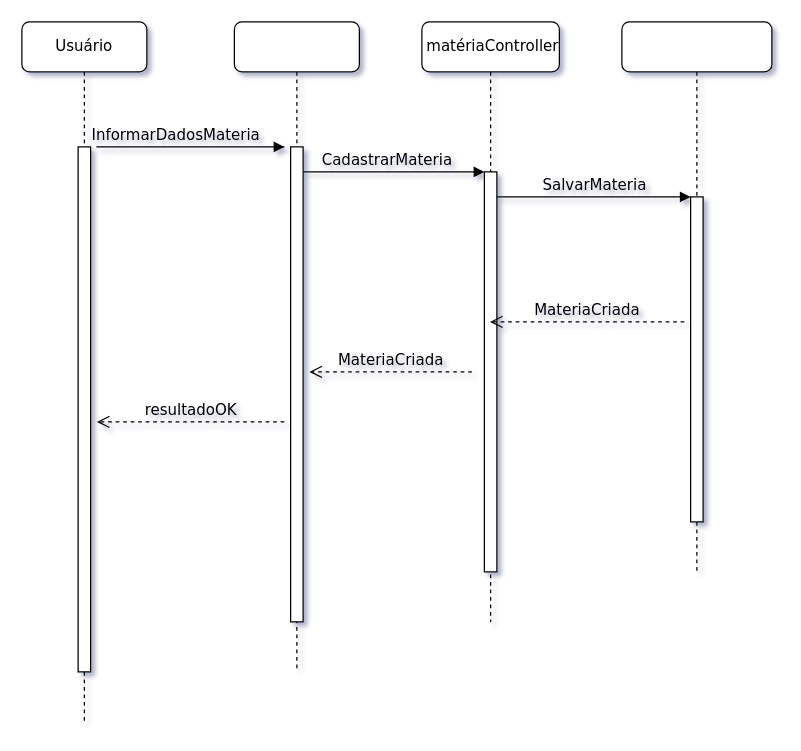
Some shapes in this 801 by 751 pixel diagram are drawn without their labels. Here are the shapes that lost their labels. From the top down, the box of each, then its label:
(621, 21, 772, 572): MateriaRepository
(233, 21, 359, 672): TelaMateria
